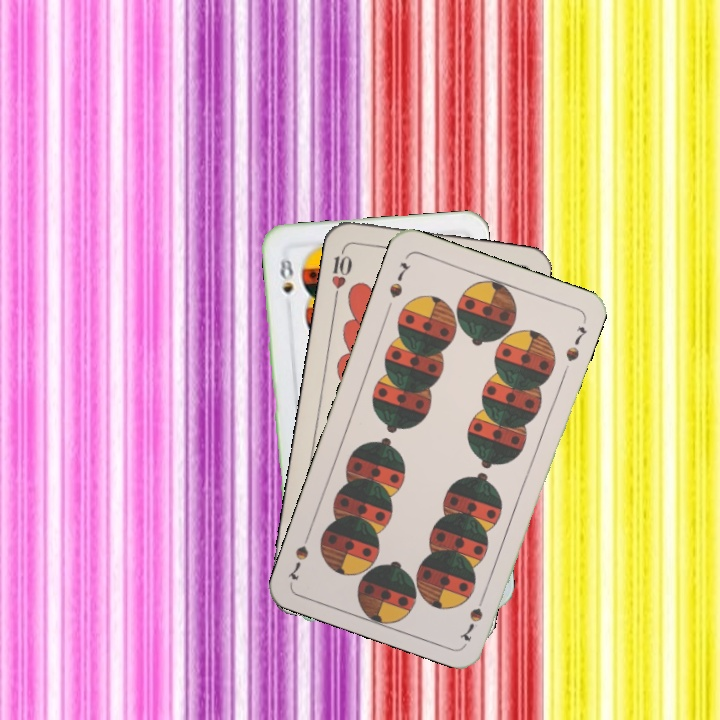H10: (327, 243, 355, 302)
S7: (456, 588, 489, 644), (385, 258, 413, 301)
S8: (276, 248, 296, 297)
